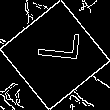L_W: (29, 37, 81, 73)
